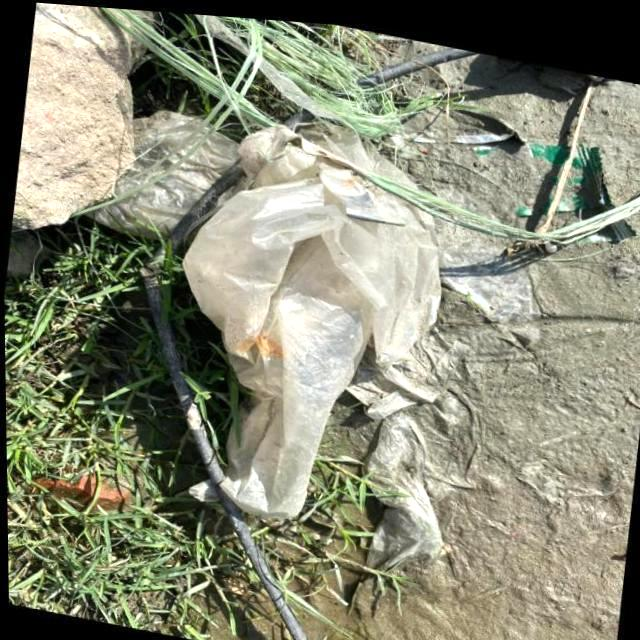polythene: (168, 94, 479, 546)
